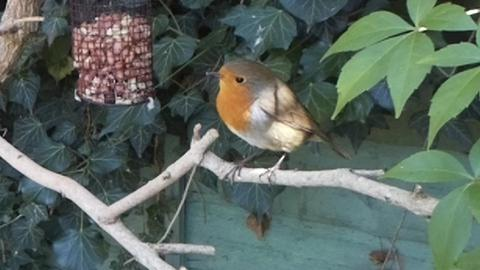robin: (205, 58, 352, 192)
